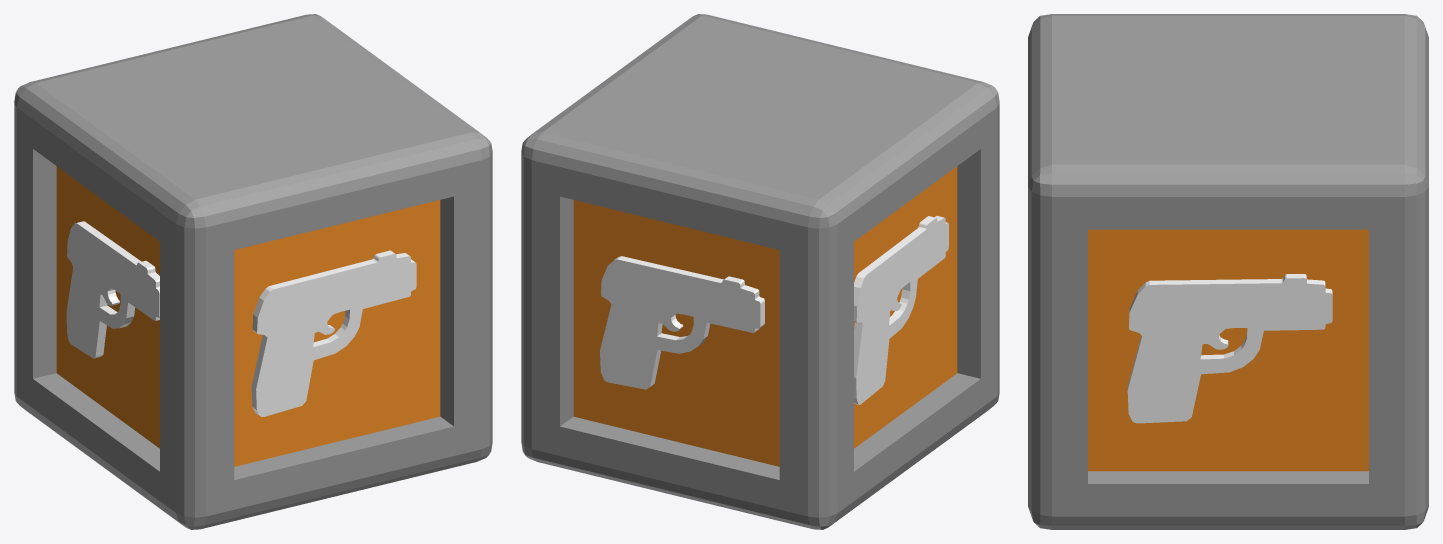
The model's file is Gun Box.fbx.
The picture shows the model from 3 angles, left to right: view 1: azimuth 30°, elevation 25°; view 2: azimuth 150°, elevation 25°; view 3: azimuth 270°, elevation 25°; orthographic projection. The views are drawn at different scales.
Visible parts, largest first — view 1: Gun Box, Gun Icon; view 2: Gun Box, Gun Icon; view 3: Gun Box, Gun Icon.
Boxes of the visible parts, x1,y1,x2,y2 form: Gun Box: (14, 14, 492, 529); Gun Icon: (66, 221, 416, 416); Gun Box: (521, 14, 999, 529); Gun Icon: (600, 216, 948, 404); Gun Box: (1028, 14, 1428, 529); Gun Icon: (1127, 274, 1332, 423).
Bounding box in the file's own units: 200 × 200 × 200.
